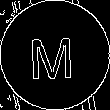M_N: (31, 29, 79, 81)
